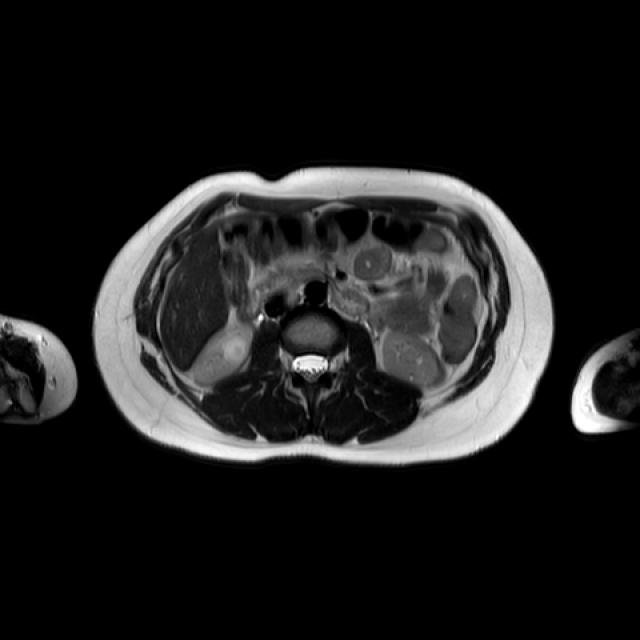sag: (191, 322, 256, 388)
sol: (379, 327, 447, 386)
